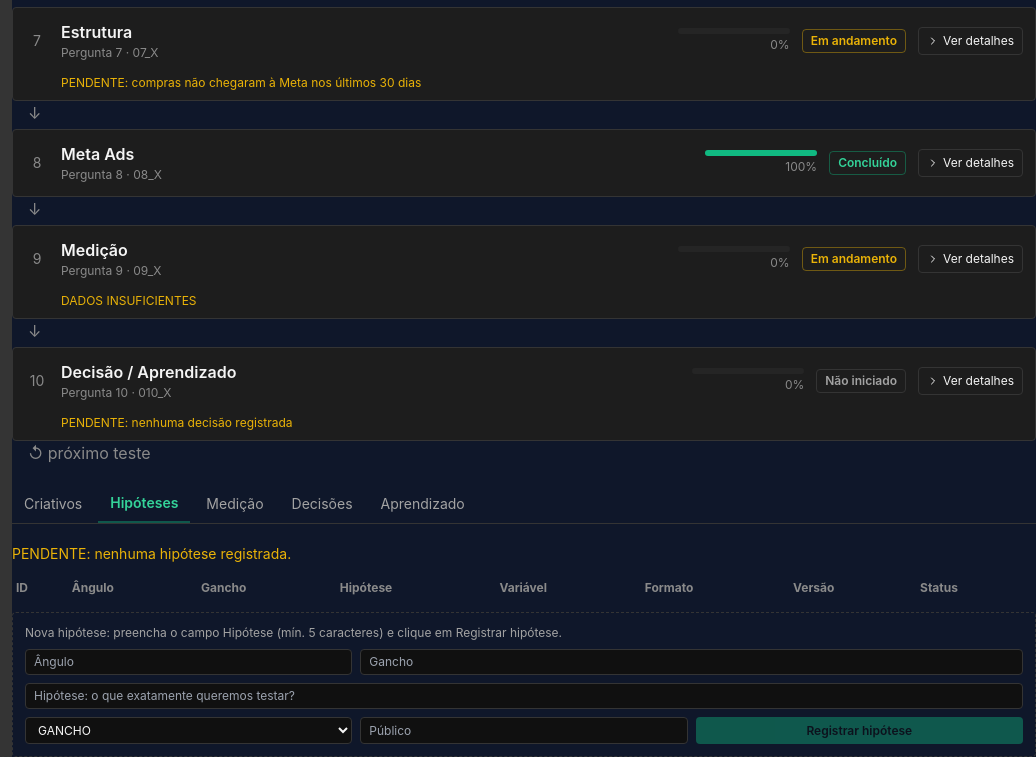
Scenario: Método NORQVA — tela › non-admin cannot import external ads
This screenshot has width=1036, height=757.
(page scrolled)
Click the tab "Criativos".
click(53, 504)  # box [12,485,94,523]
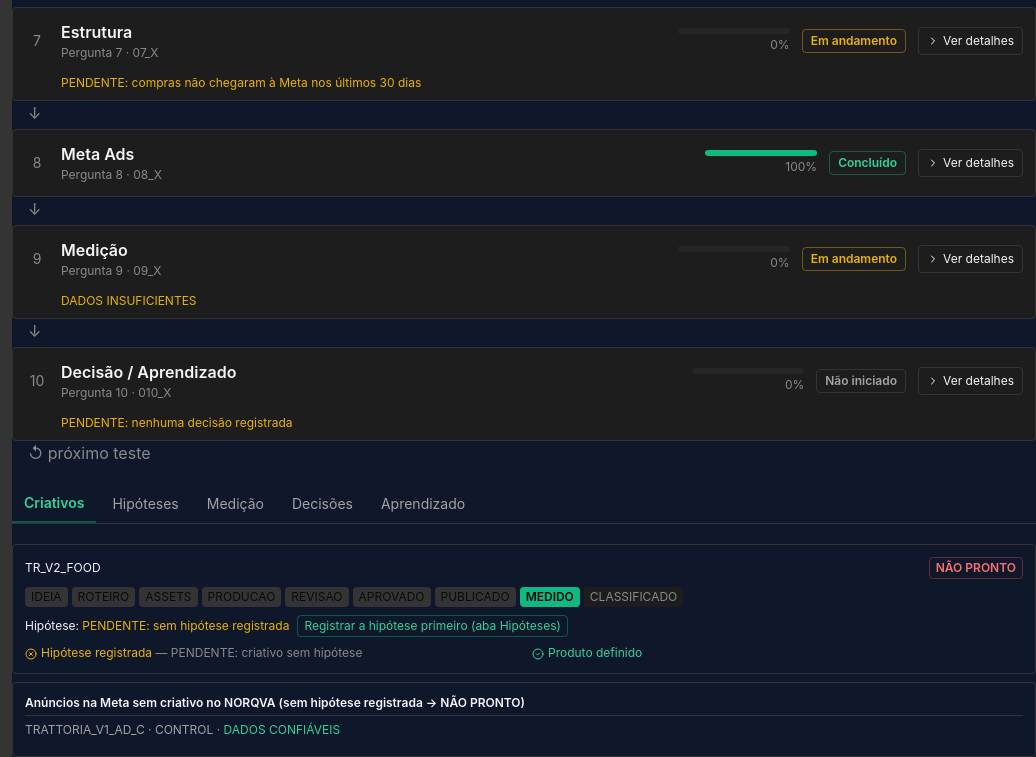
Result: the element with test id "method-external-ad" is shown at [25,715,1023,744]
